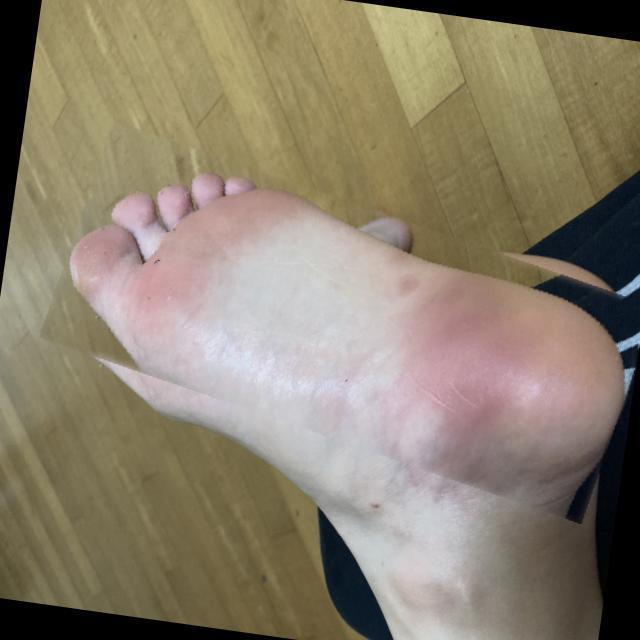No_Shoes: (54, 158, 640, 504)
